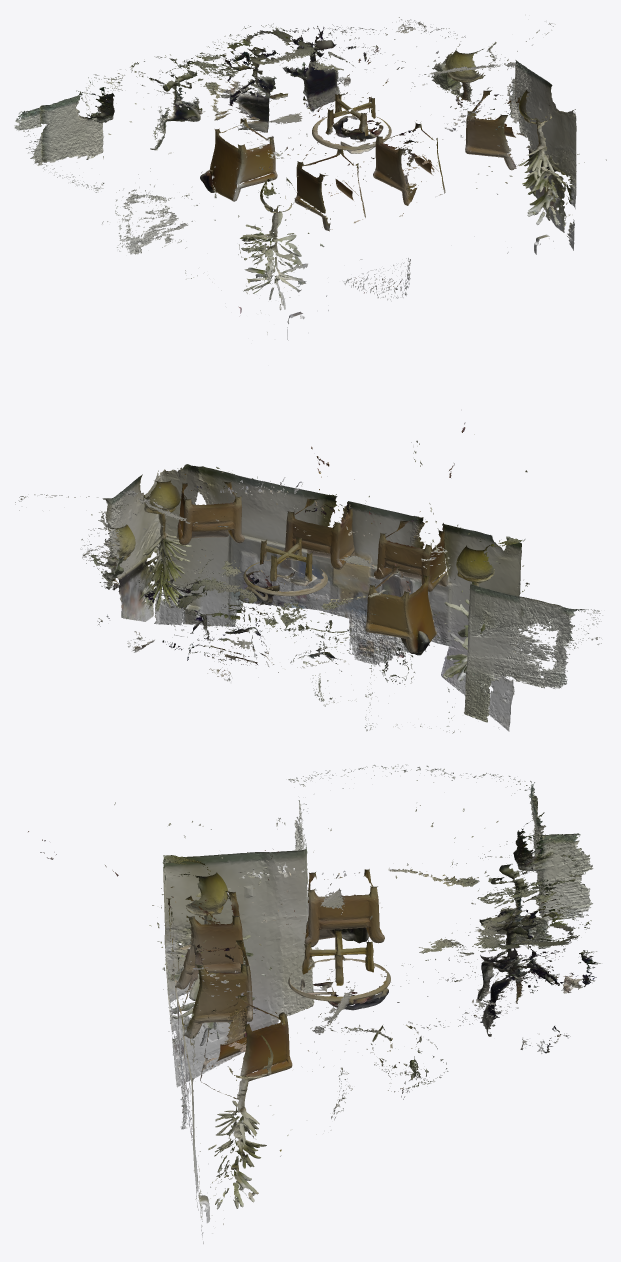
The model's file is room-preview.glb.
3 views of the same model, one above another, from view 1: azimuth 30°, elevation 25°; view 2: azimuth 150°, elevation 25°; view 3: azimuth 270°, elevation 25° (orthographic). The views are drawn at different scales.
Visible parts, largest first — view 1: world; view 2: world; view 3: world.
Part boxes in pixels (x1,y1,x2,y2): world: (14, 17, 606, 343); world: (15, 422, 602, 733); world: (28, 764, 600, 1244).
Size of the model in its own units: 8.23 by 3.85 by 6.23.
